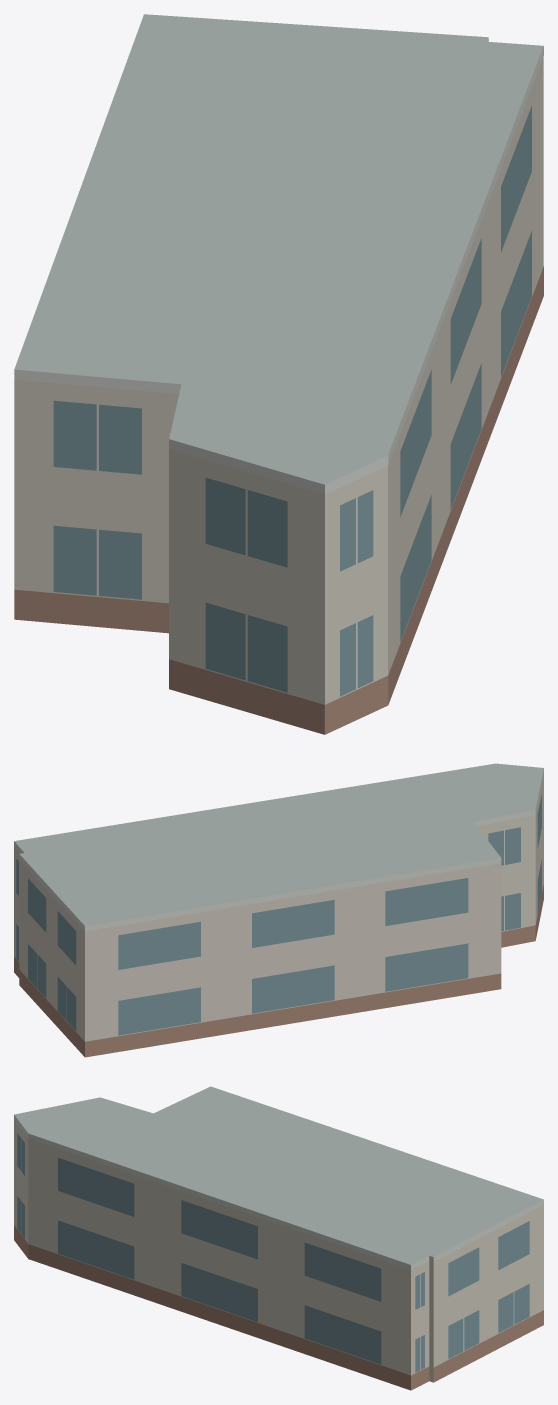
The model's file is survey-upis-32606431.glb.
3 renders of one model, top to bottom at view 1: azimuth 30°, elevation 25°; view 2: azimuth 150°, elevation 25°; view 3: azimuth 270°, elevation 25°, orthographic. The views are drawn at different scales.
Visible parts, largest first — view 1: survey-upis-32606431.tmp; view 2: survey-upis-32606431.tmp; view 3: survey-upis-32606431.tmp.
Boxes of the visible parts, x1,y1,x2,y2 form: survey-upis-32606431.tmp: [14, 14, 543, 734]; survey-upis-32606431.tmp: [14, 763, 543, 1057]; survey-upis-32606431.tmp: [14, 1086, 543, 1390].
Size of the model in its own units: 18.62 by 6.1 by 23.34.
